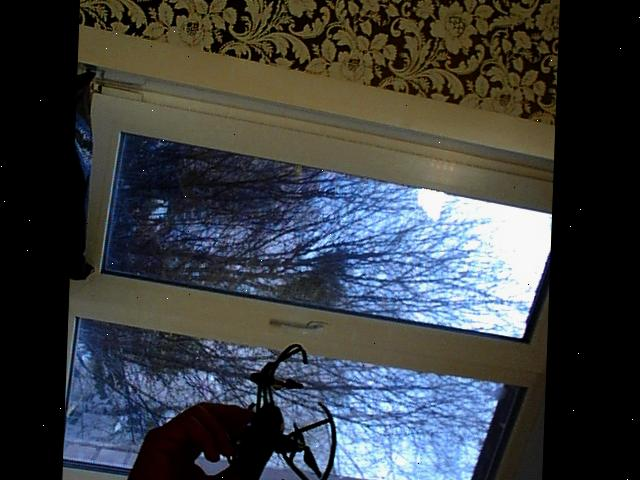drone: (192, 337, 360, 480)
